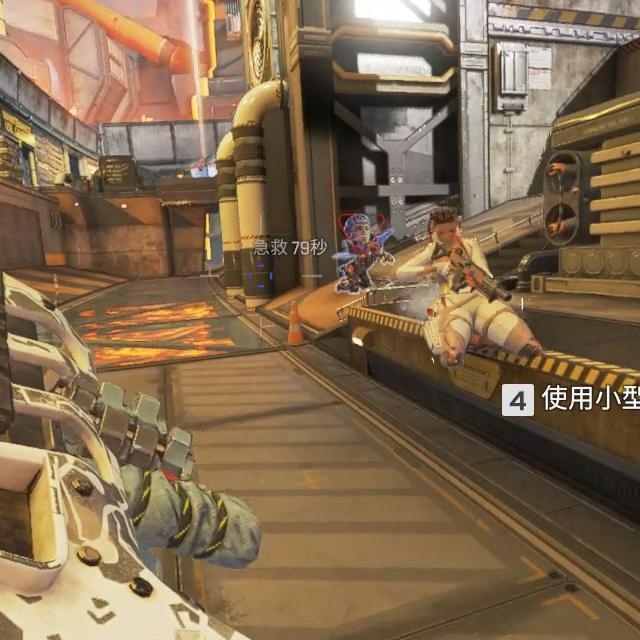avatar: (419, 205, 545, 369)
